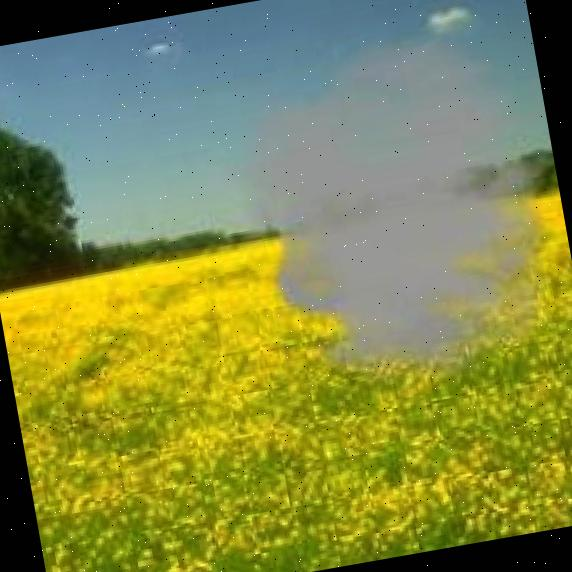smoke: (204, 14, 572, 410)
